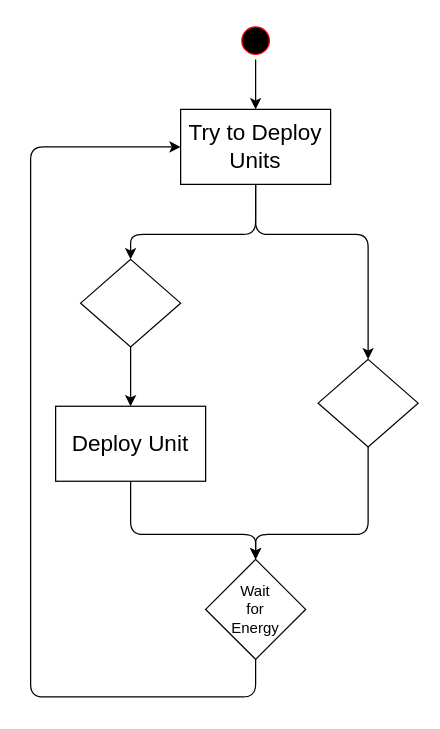
Some shapes in this 440 by 729 pixel diagram are drawn without their labels. Here are the shapes that lost their labels. From the top down, the centre of each, then its label:
(130,302): Enought Energy
(367,402): Less Energy
